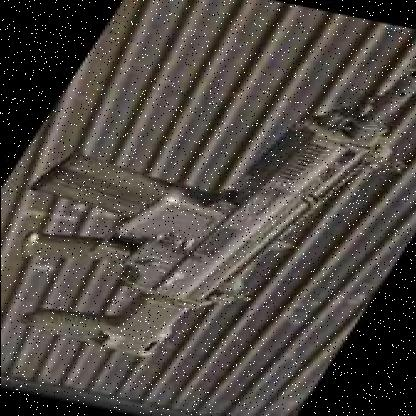rifle: (0, 11, 416, 388)
